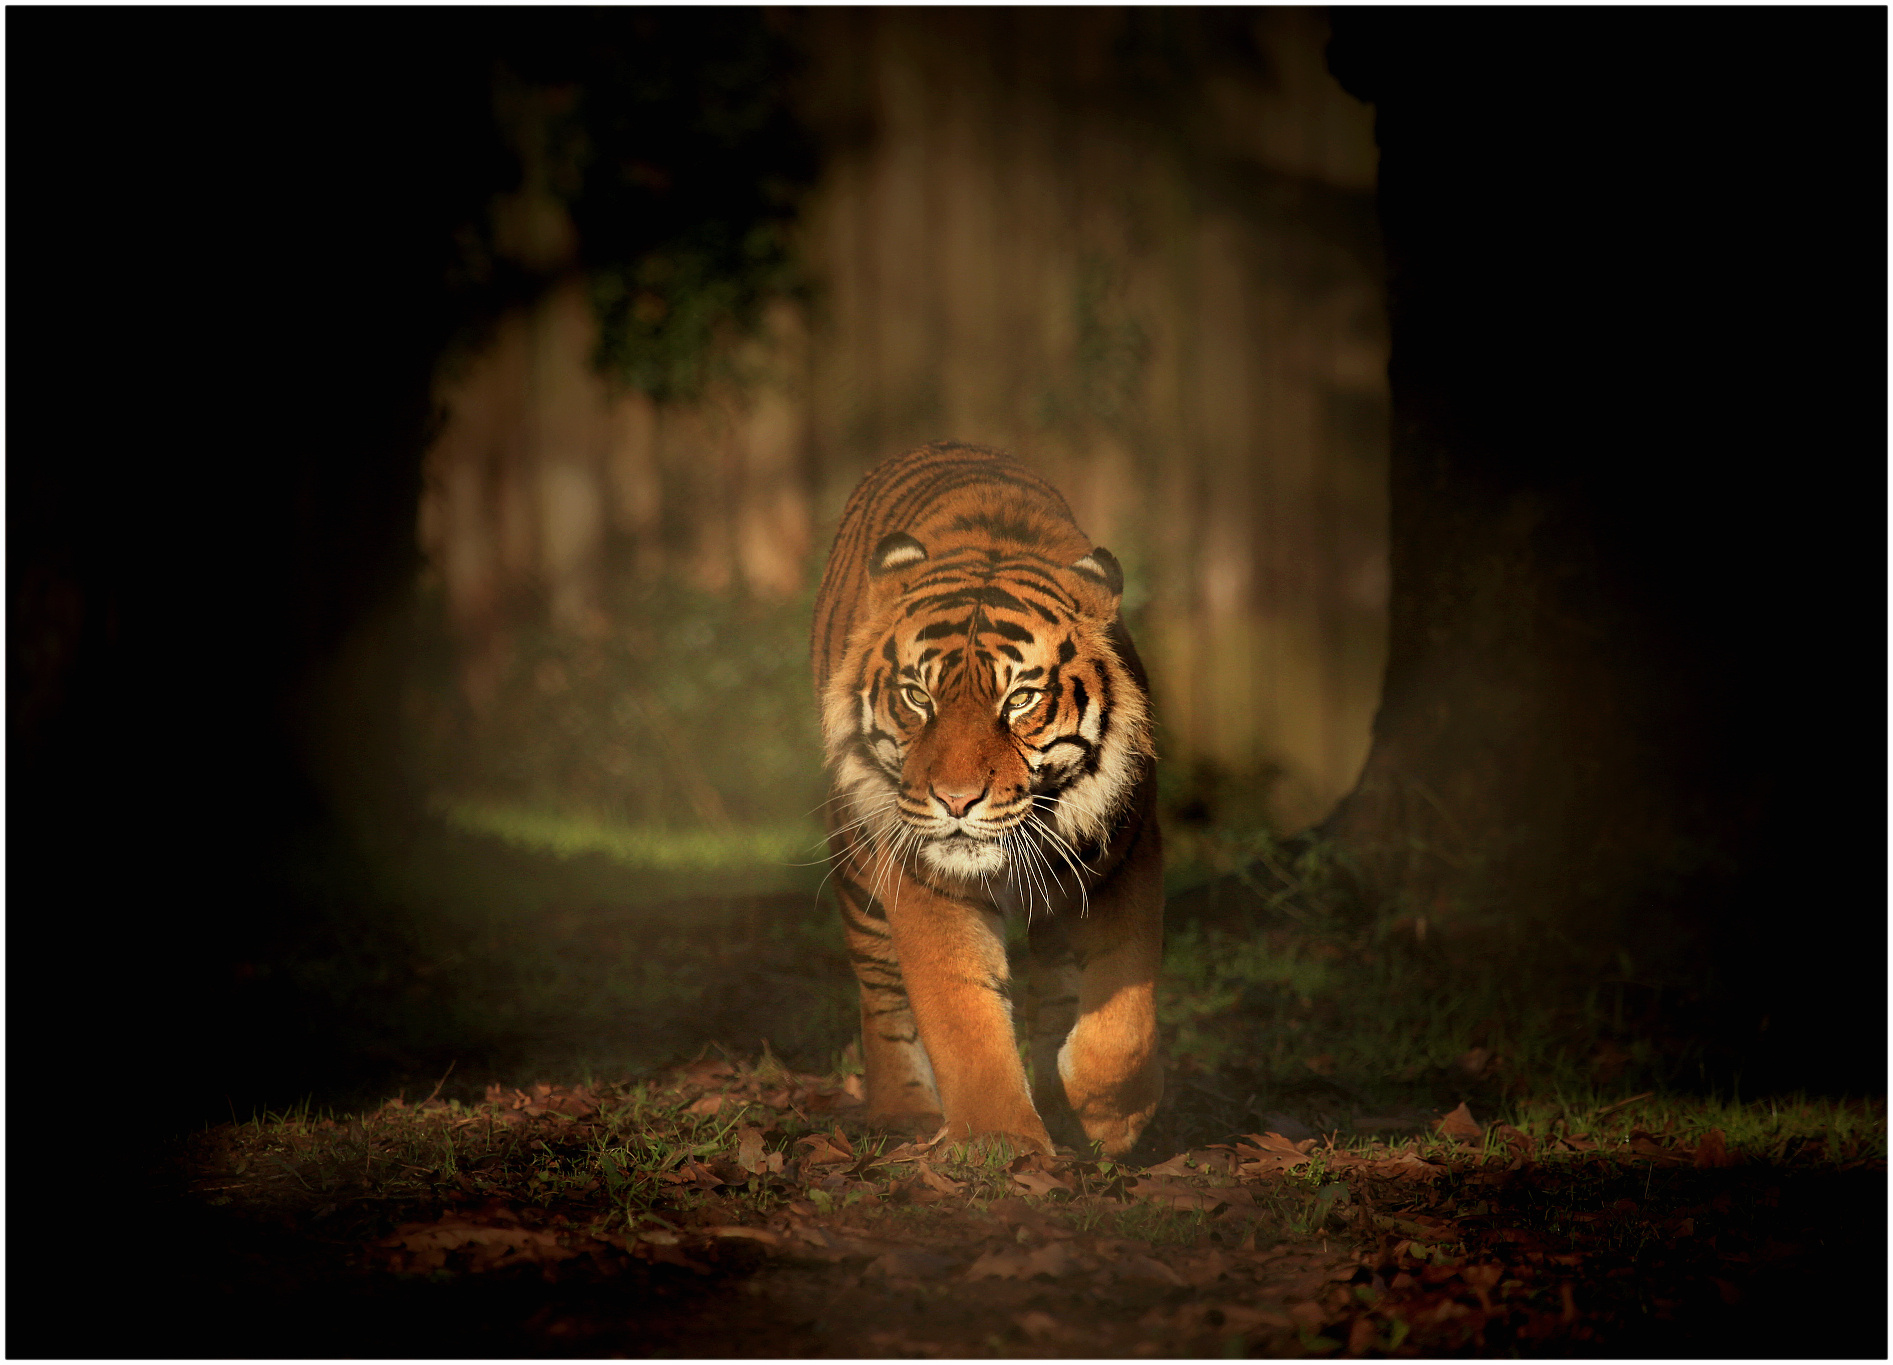tiger: (797, 439, 1235, 1133)
